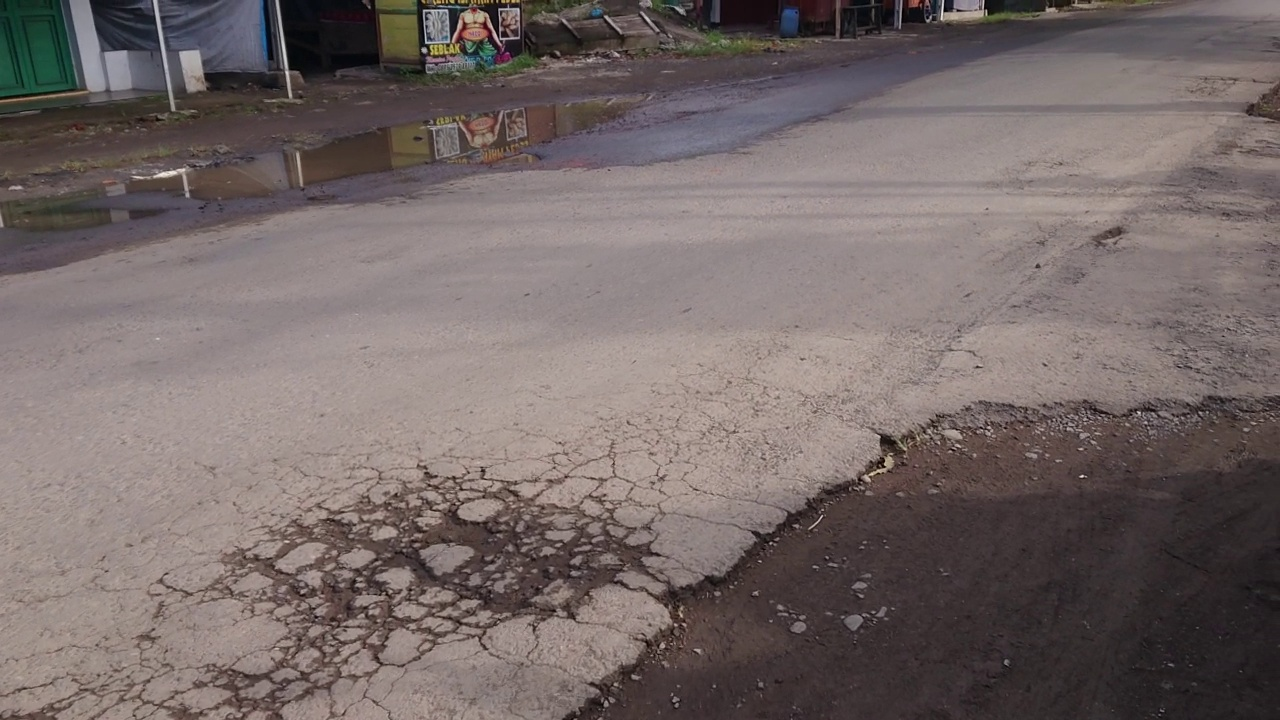Retak: (112, 350, 831, 720), (1141, 254, 1269, 400)
